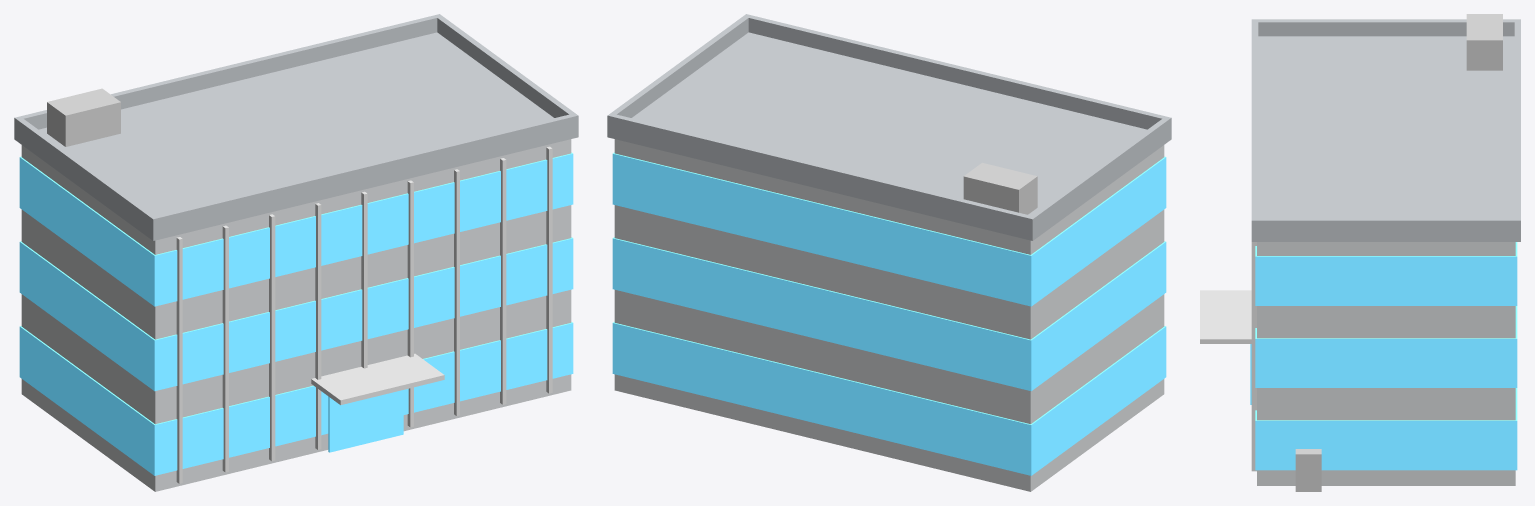
Rendered from Load-Office.glb.
3 renders of one model, left to right at view 1: azimuth 30°, elevation 25°; view 2: azimuth 150°, elevation 25°; view 3: azimuth 270°, elevation 25°, orthographic. The views are drawn at different scales.
Parts seen in each view (by area): view 1: roof, core, glass_band_2, glass_band_1, glass_band_0, parapet (×4), mullion (×9), canopy, entrance, rooftop_unit; view 2: core, roof, glass_band_0, glass_band_2, glass_band_1, parapet (×4), rooftop_unit; view 3: roof, core, glass_band_1, glass_band_2, glass_band_0, parapet (×4), canopy, rooftop_unit, mullion, meter_cabinet.
Part boxes in pixels (x1,y1,x2,y2): roof: [14, 32, 578, 240]; core: [21, 139, 571, 491]; glass_band_2: [19, 152, 573, 306]; glass_band_1: [19, 237, 573, 391]; glass_band_0: [19, 322, 573, 475]; parapet (×4): [14, 14, 578, 233]; mullion (×9): [176, 146, 552, 483]; canopy: [311, 353, 444, 405]; entrance: [328, 390, 403, 452]; rooftop_unit: [47, 88, 120, 146]; core: [614, 139, 1164, 491]; roof: [607, 32, 1171, 240]; glass_band_0: [612, 322, 1166, 475]; glass_band_2: [612, 152, 1166, 306]; glass_band_1: [612, 237, 1166, 391]; parapet (×4): [607, 14, 1171, 233]; rooftop_unit: [963, 162, 1037, 214]; roof: [1251, 36, 1520, 241]; core: [1257, 242, 1515, 485]; glass_band_1: [1255, 306, 1517, 387]; glass_band_2: [1255, 242, 1517, 305]; glass_band_0: [1255, 388, 1517, 470]; parapet (×4): [1251, 19, 1520, 234]; canopy: [1200, 290, 1251, 343]; rooftop_unit: [1466, 14, 1502, 70]; mullion: [1251, 242, 1256, 471]; meter_cabinet: [1295, 449, 1321, 491].
Size of the model in its own units: 18.75 by 12.1 by 12.4.
